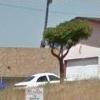Tree: (44, 5, 100, 77)
